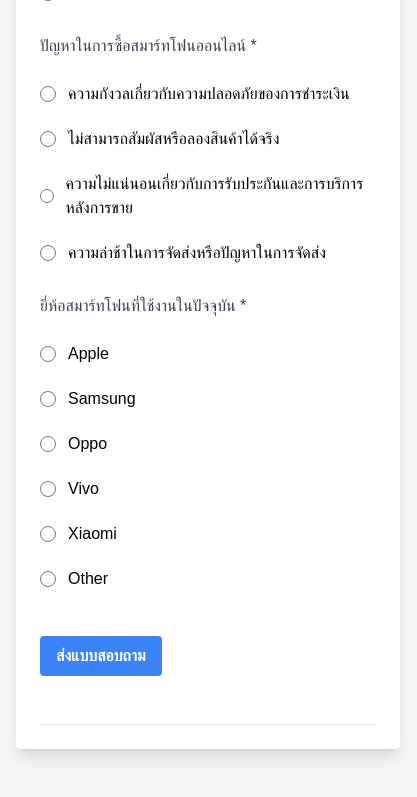
Test: แสดง error message เมื่อส่งฟอร์มที่ไม่ครบถ้วน
This screenshot has width=417, height=797.
(page scrolled)
What coordinates should you click on to do the following:
click the button "ส่งแบบสอบถาม"
I would click on:
 (101, 656)
Its box is [40,636,162,676].
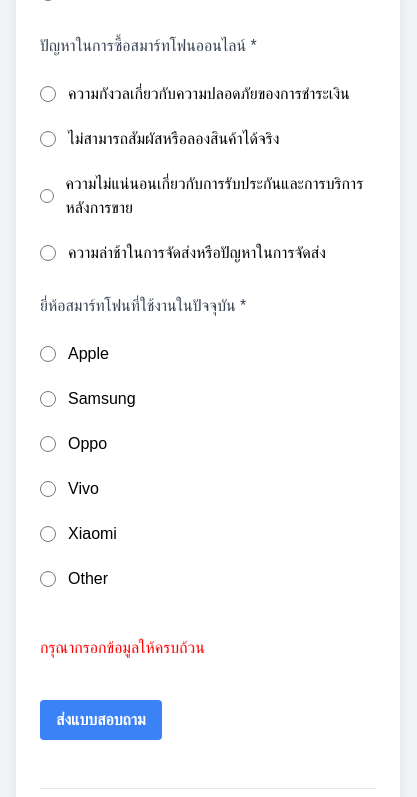
Result: the text "กรุณากรอกข้อมูลให้ครบถ้วน" is shown at [40,639,205,656]
